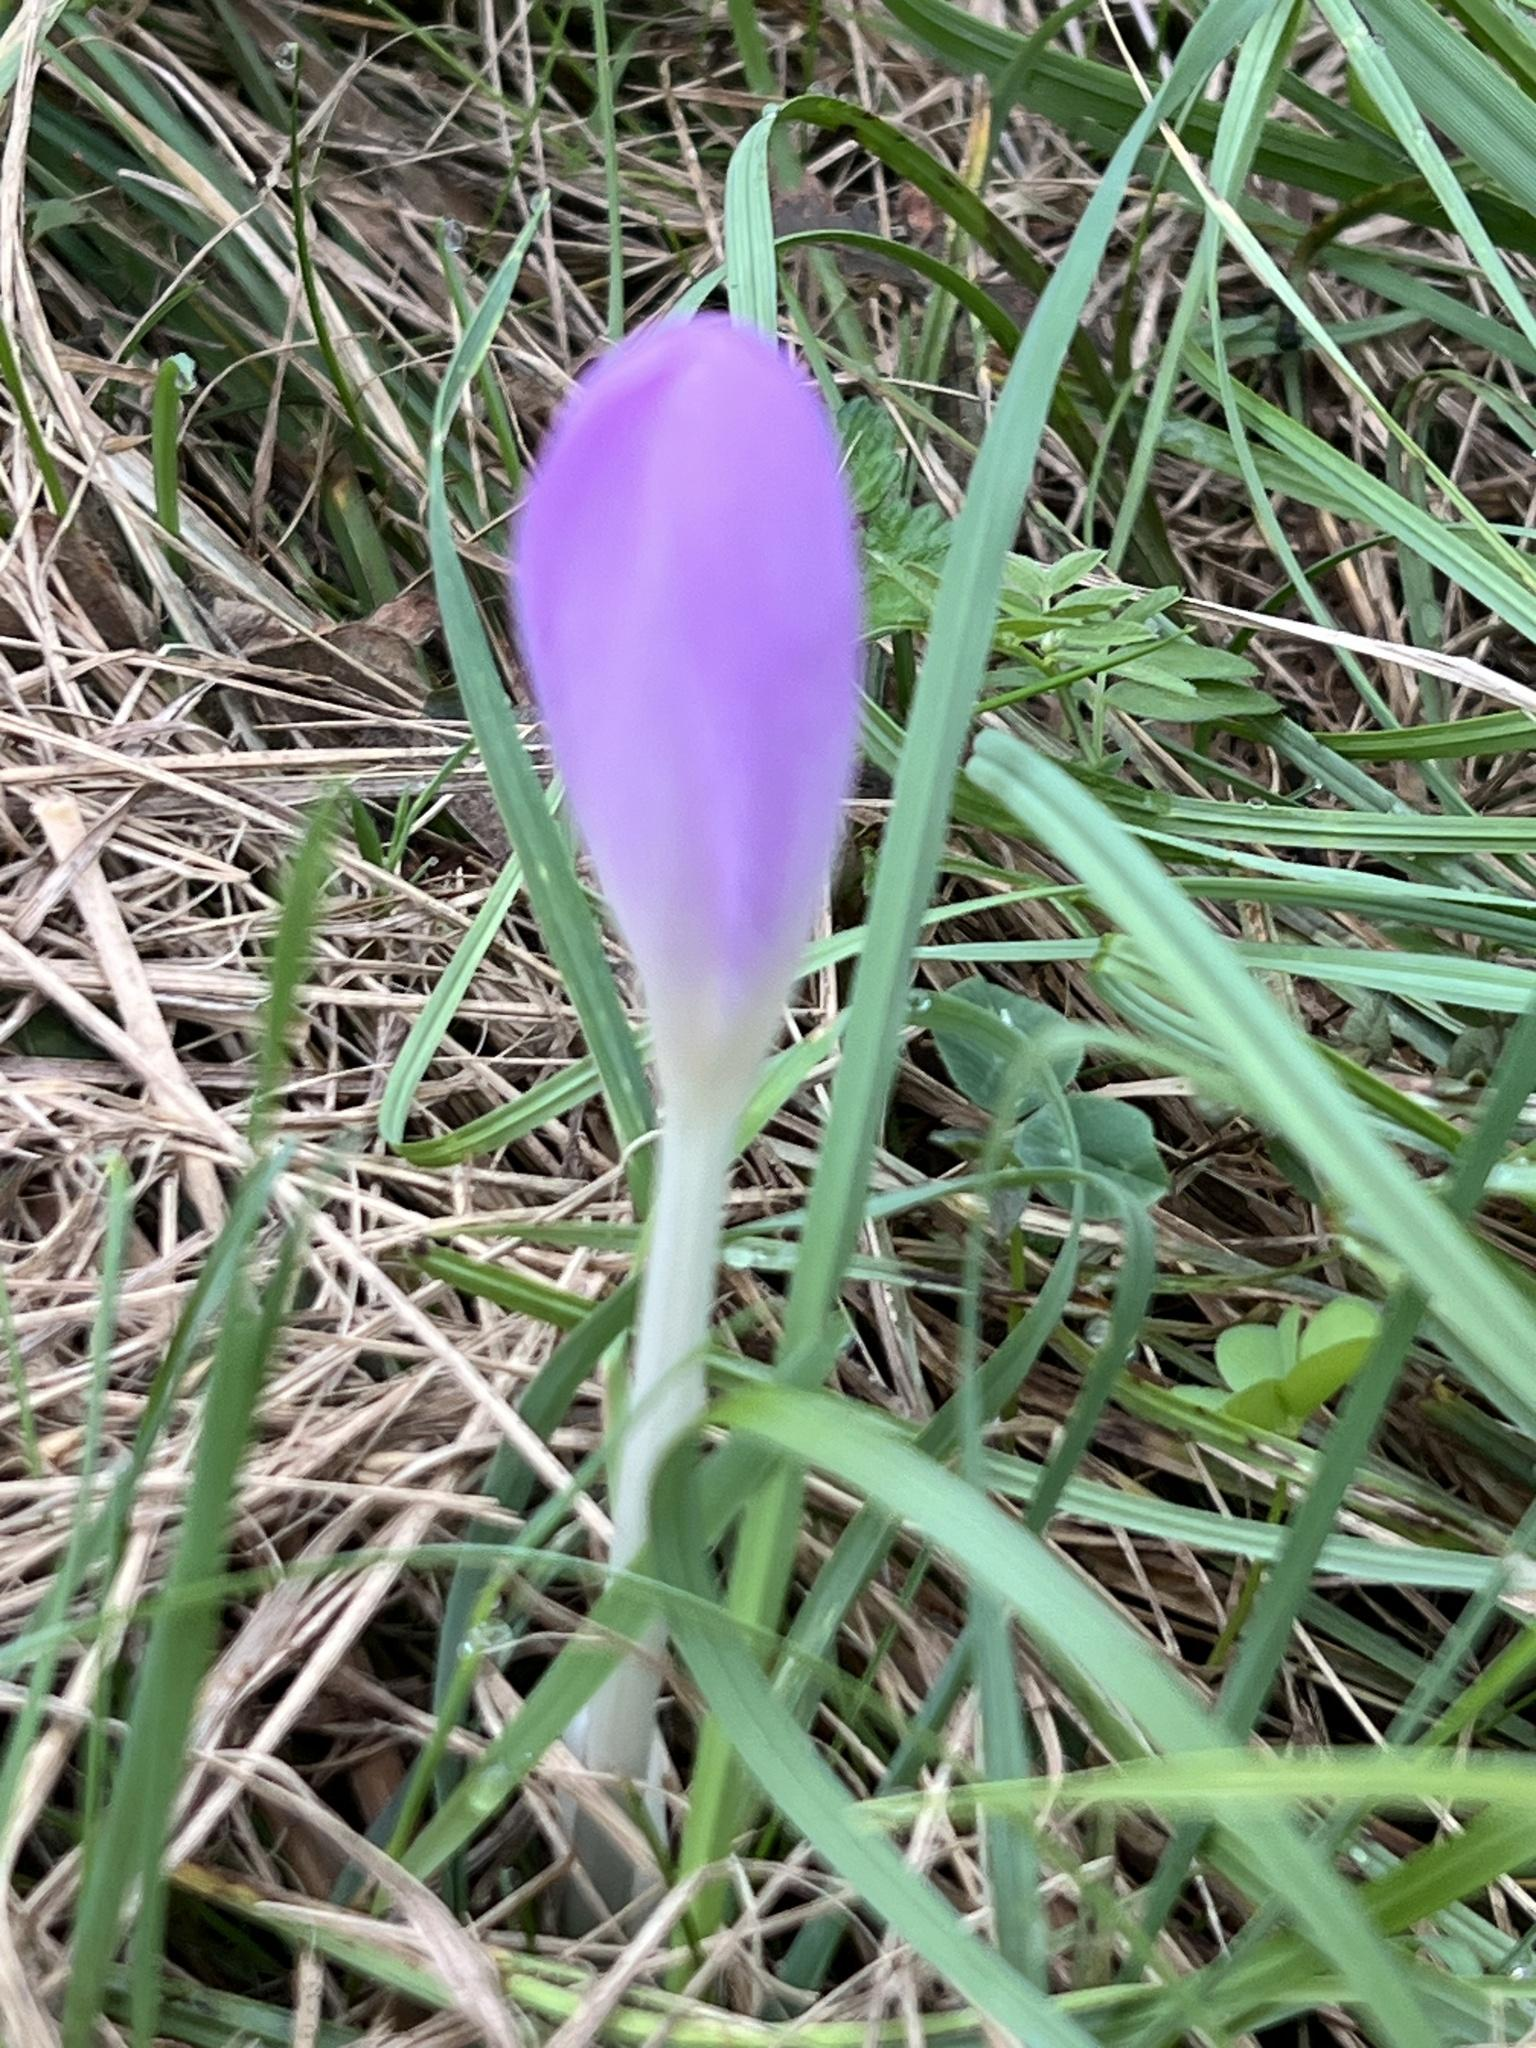Colchicum autumnale L: (461, 242, 952, 1772)
